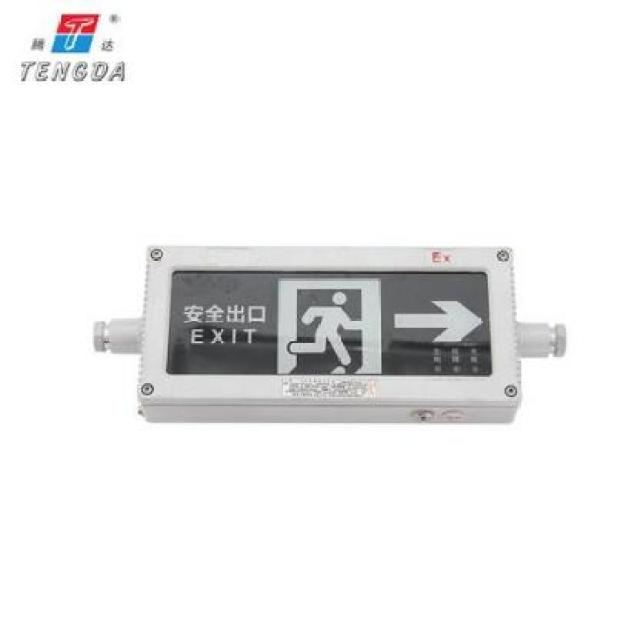exit_sign: (165, 268, 492, 380)
